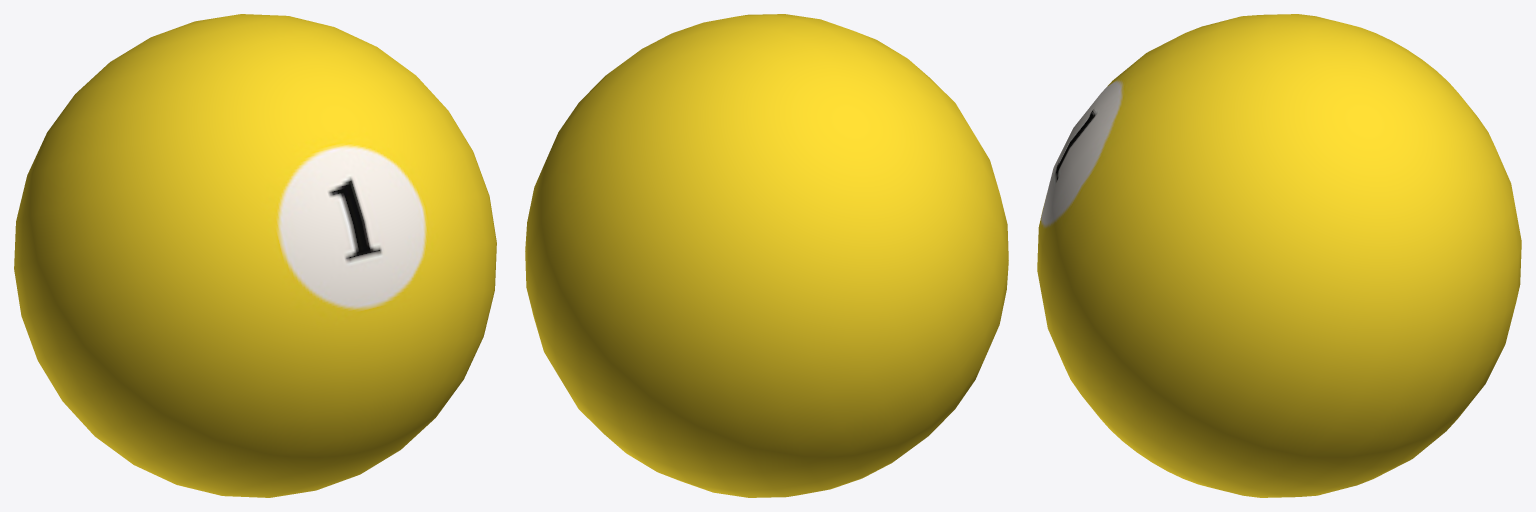
Rendered from yellow.glb.
3 renders of one model, left to right at view 1: azimuth 30°, elevation 25°; view 2: azimuth 150°, elevation 25°; view 3: azimuth 270°, elevation 25°, orthographic.
Parts seen in each view (by area): view 1: Ball1_01 - Default_0; view 2: Ball1_01 - Default_0; view 3: Ball1_01 - Default_0.
Boxes of the visible parts, x1=… form: Ball1_01 - Default_0: x1=14, y1=14, x2=496, y2=497; Ball1_01 - Default_0: x1=525, y1=14, x2=1008, y2=497; Ball1_01 - Default_0: x1=1037, y1=14, x2=1521, y2=497.
Bounding box in the file's own units: 37.86 × 37.78 × 37.78.
Materials: 1 (1 with a texture image).
